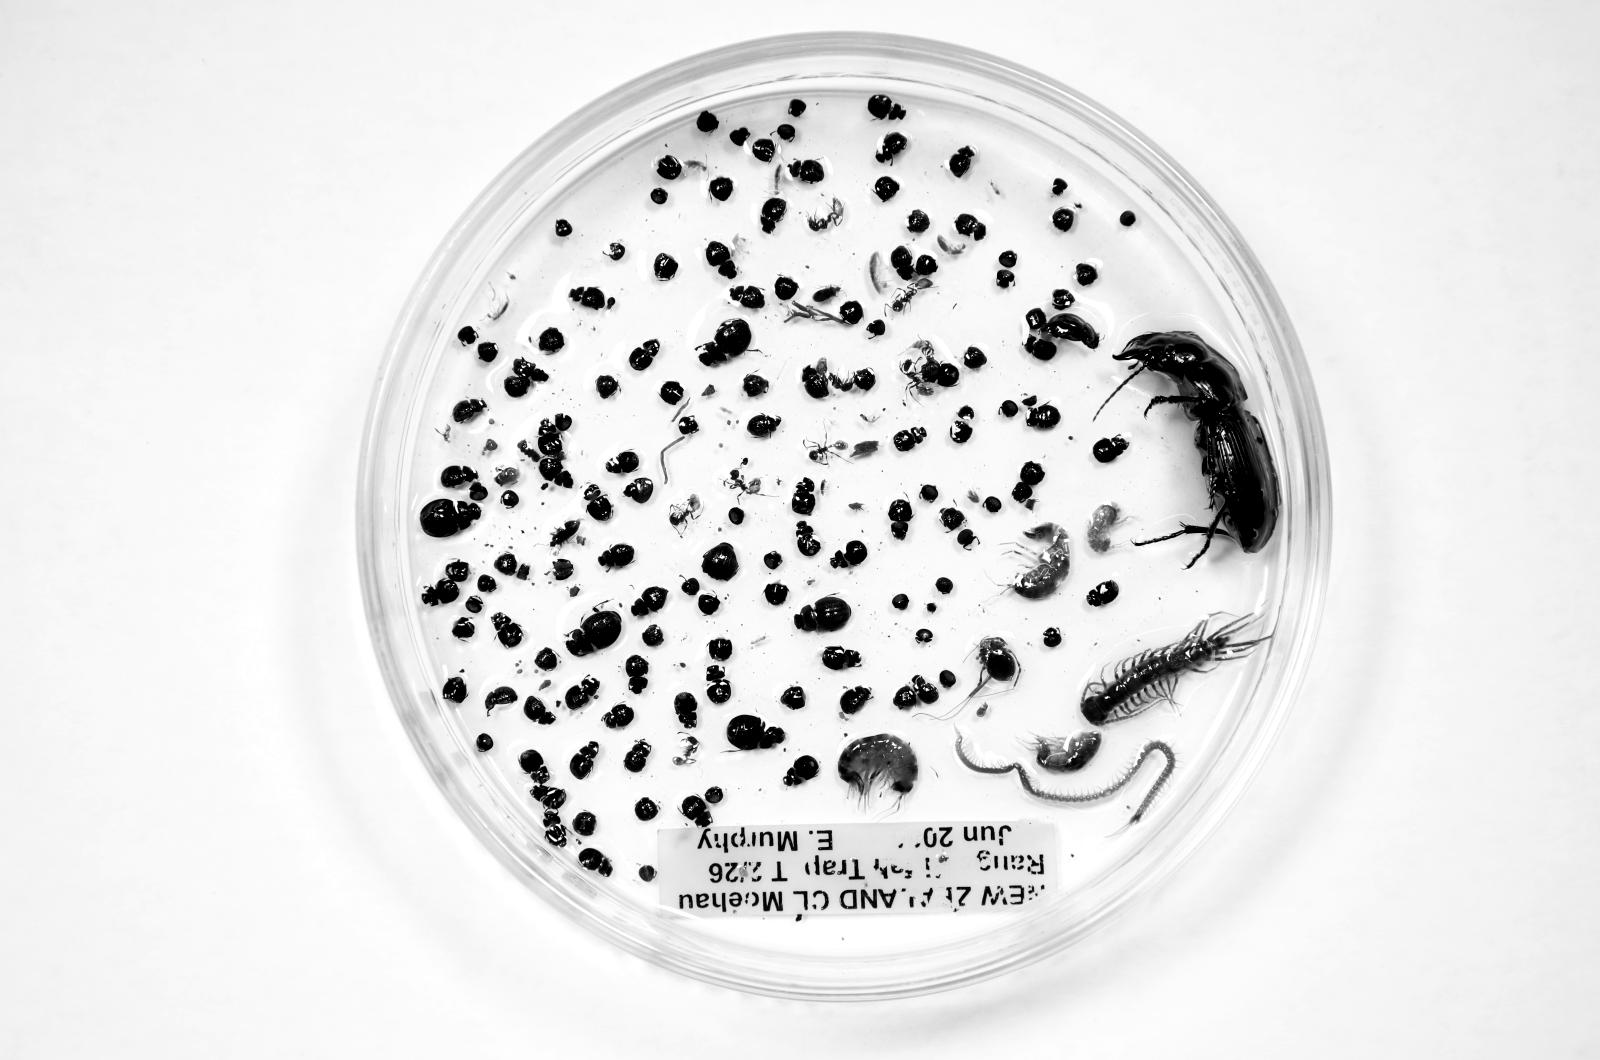amphipoda: (838, 733, 918, 811), (1001, 523, 1070, 599), (1030, 731, 1101, 773), (1086, 503, 1124, 552)
carabidae: (1114, 333, 1279, 553)
chilopoda: (955, 728, 1177, 837), (1081, 614, 1273, 725)
coleoptera: (566, 608, 622, 656), (698, 319, 752, 366), (420, 498, 481, 537), (794, 595, 852, 632), (727, 714, 785, 750), (1046, 313, 1101, 349), (565, 675, 600, 713), (491, 612, 524, 648), (518, 749, 550, 786), (706, 241, 737, 279), (537, 419, 564, 462), (631, 586, 668, 617), (569, 741, 599, 779), (783, 755, 819, 786), (421, 577, 459, 606), (920, 359, 959, 387), (680, 794, 712, 828), (538, 458, 574, 488), (584, 484, 613, 521), (530, 784, 566, 813), (830, 540, 867, 568), (598, 543, 635, 571), (888, 499, 913, 540), (840, 685, 872, 717), (549, 519, 584, 548), (706, 665, 732, 704), (760, 196, 787, 233), (1092, 436, 1129, 463), (876, 131, 907, 163), (629, 339, 660, 371), (623, 739, 652, 773), (579, 847, 613, 876), (801, 364, 829, 399), (867, 94, 906, 119), (624, 654, 649, 693), (512, 357, 549, 383), (523, 696, 556, 725), (542, 809, 567, 847), (822, 646, 861, 670), (485, 686, 518, 714), (1026, 403, 1061, 429), (796, 521, 821, 557), (568, 287, 607, 310), (954, 213, 986, 241), (1024, 334, 1057, 361), (792, 478, 816, 515), (674, 692, 698, 729), (892, 427, 927, 452), (746, 413, 781, 438), (910, 675, 939, 705), (789, 159, 825, 183), (948, 146, 975, 178), (1086, 580, 1118, 607), (603, 702, 635, 729), (441, 465, 478, 488), (890, 246, 915, 280), (452, 398, 486, 423), (605, 450, 640, 474), (729, 286, 765, 309)
collembola: (869, 251, 887, 293), (486, 292, 509, 321), (936, 234, 966, 255), (772, 161, 785, 197), (683, 159, 707, 172)
formicidae: (888, 277, 933, 314), (812, 357, 855, 395), (900, 357, 940, 396), (669, 494, 702, 533), (808, 196, 844, 231), (804, 440, 850, 465), (724, 469, 761, 496), (672, 735, 700, 766)
hemiptera: (813, 285, 841, 302)
opiliones: (970, 636, 1022, 697)
